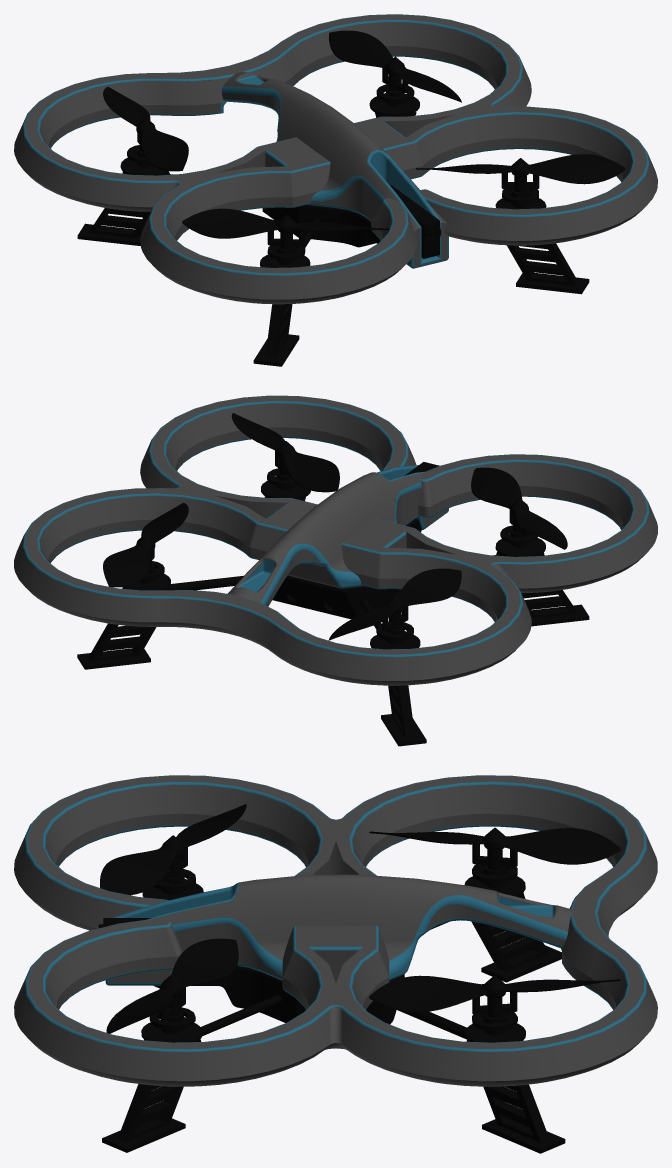
The picture shows the model from 3 angles, top to bottom: view 1: azimuth 30°, elevation 25°; view 2: azimuth 150°, elevation 25°; view 3: azimuth 270°, elevation 25°; orthographic projection. The views are drawn at different scales.
Parts seen in each view (by area): view 1: Body, currentmodel.wrl.cleaner.materialmerger.gles, PropellerFR, PropellerFL, PropellerBL, PropellerBR; view 2: Body, currentmodel.wrl.cleaner.materialmerger.gles, PropellerBR, PropellerFR, PropellerFL, PropellerBL; view 3: Body, currentmodel.wrl.cleaner.materialmerger.gles, PropellerBL, PropellerBR, PropellerFL, PropellerFR.
Part boxes in pixels (x1=…): Body: x1=14, y1=14, x2=657, y2=304; currentmodel.wrl.cleaner.materialmerger.gles: x1=77, y1=94, x2=589, y2=366; PropellerFR: x1=182, y1=208, x2=389, y2=263; PropellerFL: x1=416, y1=154, x2=625, y2=206; PropellerBL: x1=329, y1=30, x2=461, y2=105; PropellerBR: x1=103, y1=86, x2=188, y2=171; Body: x1=14, y1=395, x2=657, y2=685; currentmodel.wrl.cleaner.materialmerger.gles: x1=77, y1=462, x2=589, y2=746; PropellerBR: x1=328, y1=568, x2=461, y2=643; PropellerFR: x1=471, y1=467, x2=567, y2=549; PropellerFL: x1=231, y1=413, x2=339, y2=492; PropellerBL: x1=103, y1=503, x2=188, y2=587; Body: x1=14, y1=775, x2=657, y2=1086; currentmodel.wrl.cleaner.materialmerger.gles: x1=98, y1=876, x2=565, y2=1153; PropellerBL: x1=369, y1=975, x2=620, y2=1034; PropellerBR: x1=369, y1=827, x2=620, y2=886; PropellerFL: x1=106, y1=938, x2=238, y2=1033; PropellerFR: x1=100, y1=804, x2=246, y2=895.
Bounding box in the file's own units: 4.64 × 1.35 × 4.42.
